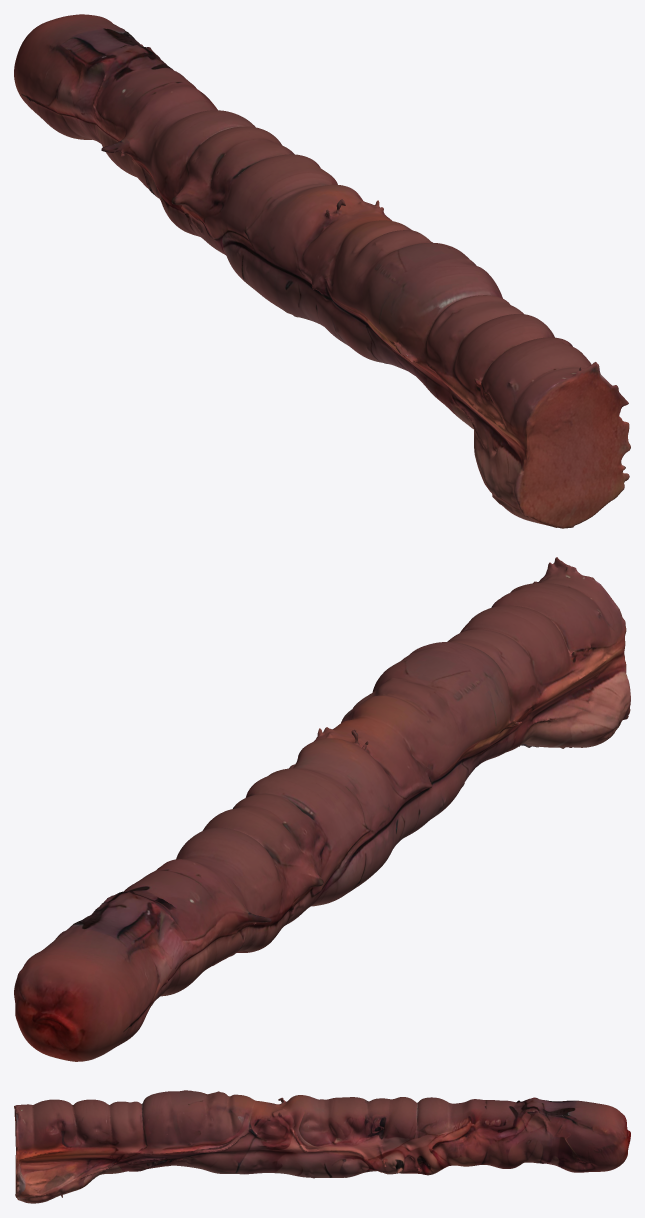
File: tripo_convert_b09b68d3-024c-4af4-8f82-8c2135de7c21.fbx
3 views of the same model, one above another, from view 1: azimuth 30°, elevation 25°; view 2: azimuth 150°, elevation 25°; view 3: azimuth 270°, elevation 25° (orthographic). The views are drawn at different scales.
Parts seen in each view (by area): view 1: tripo_node_b09b68d3; view 2: tripo_node_b09b68d3; view 3: tripo_node_b09b68d3.
Part boxes in pixels (bbox=[...]): tripo_node_b09b68d3: bbox=[14, 14, 630, 528]; tripo_node_b09b68d3: bbox=[14, 557, 630, 1061]; tripo_node_b09b68d3: bbox=[14, 1090, 630, 1203].
Size of the model in its own units: 0.1713 by 0.1866 by 1.
